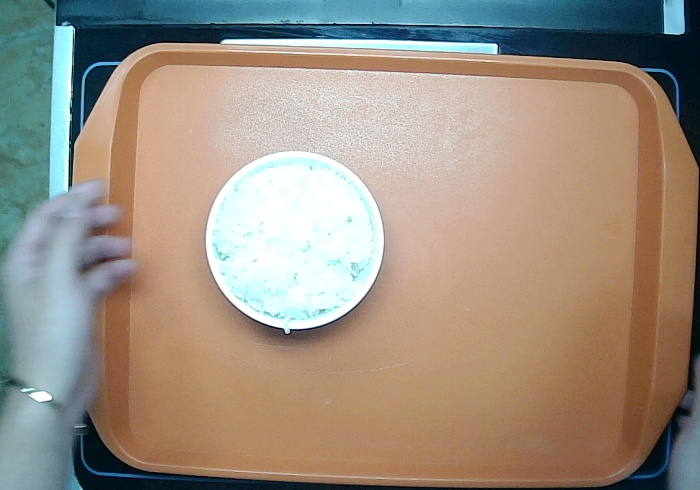HZYJPL-Fan_Wan: (199, 146, 391, 340)
